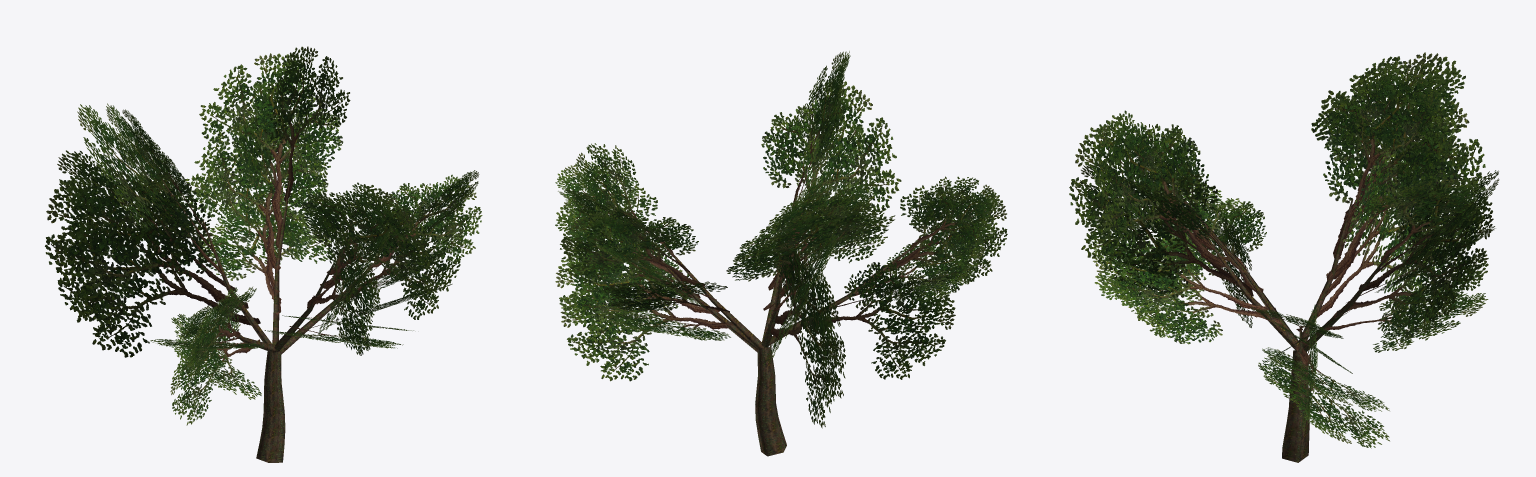
The model's file is swamp_a_lod2.glb.
The picture shows the model from 3 angles, left to right: view 1: azimuth 30°, elevation 25°; view 2: azimuth 150°, elevation 25°; view 3: azimuth 270°, elevation 25°; orthographic projection. The views are drawn at different scales.
Visible parts, largest first — view 1: swamp_a_lod2; view 2: swamp_a_lod2; view 3: swamp_a_lod2.
Part boxes in pixels (left/top/right/bottom): swamp_a_lod2: left=45, top=46, right=482, bottom=462; swamp_a_lod2: left=555, top=51, right=1007, bottom=456; swamp_a_lod2: left=1069, top=52, right=1499, bottom=462.
Bounding box in the file's own units: 76.22 × 66.41 × 74.97.
Materials: 2 (2 with a texture image).
